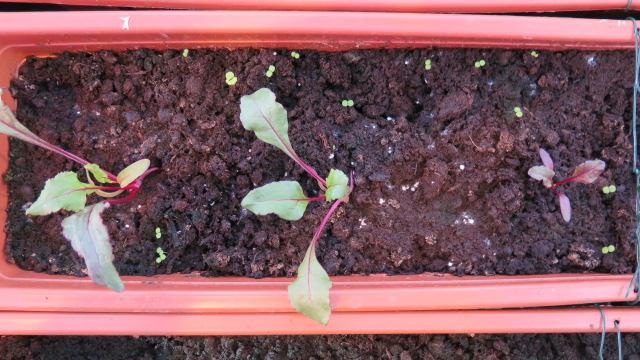weed: (221, 68, 239, 86), (262, 62, 278, 77), (509, 103, 526, 117), (335, 97, 356, 107), (598, 182, 617, 193), (469, 58, 489, 68), (597, 243, 615, 254), (421, 57, 433, 71), (525, 47, 541, 57), (179, 46, 191, 57), (153, 225, 163, 238), (287, 49, 301, 57)
